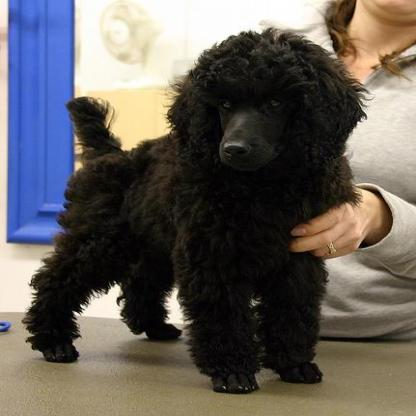miniature_poodle: (20, 24, 374, 394)
